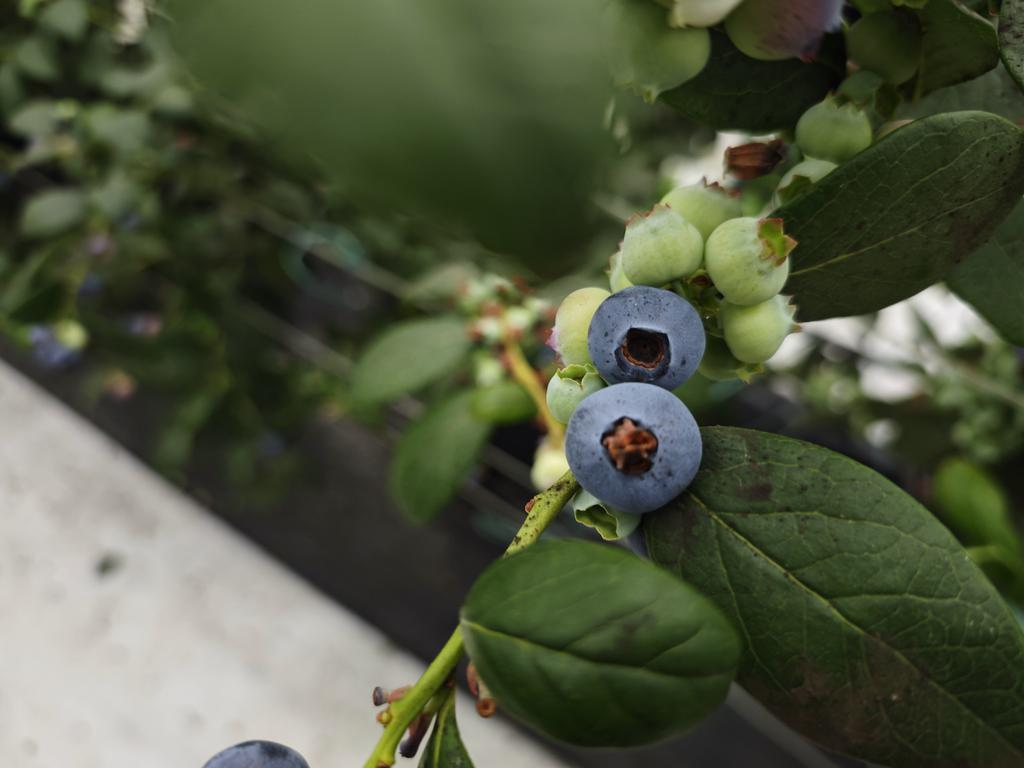RipeBlueBerry: (565, 379, 706, 519), (582, 283, 711, 390)
UnripeBlueBerry: (703, 213, 798, 306)
